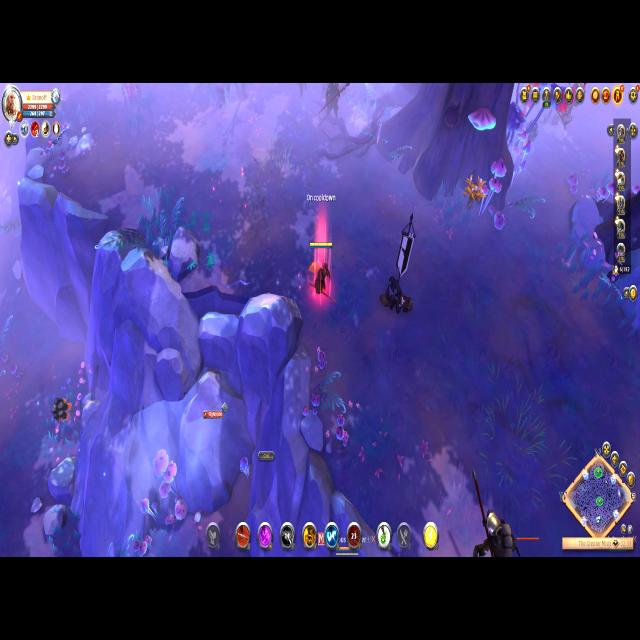hide: (460, 169, 489, 219)
ore: (469, 466, 543, 557), (550, 84, 587, 134), (322, 80, 351, 122), (516, 84, 544, 124)
player: (46, 389, 82, 440)
red: (306, 233, 338, 307)
